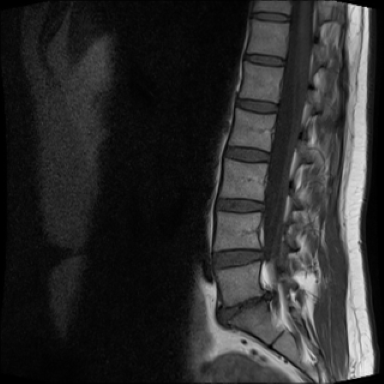Lumbar Disc Bulge (LDB): (203, 281, 292, 330), (204, 235, 283, 274), (204, 187, 282, 219)
Normal IVD: (222, 143, 271, 166), (233, 93, 279, 116), (243, 47, 285, 71), (248, 8, 292, 25)
Spinal Stenosis (SS): (256, 274, 283, 314), (251, 231, 276, 266)
